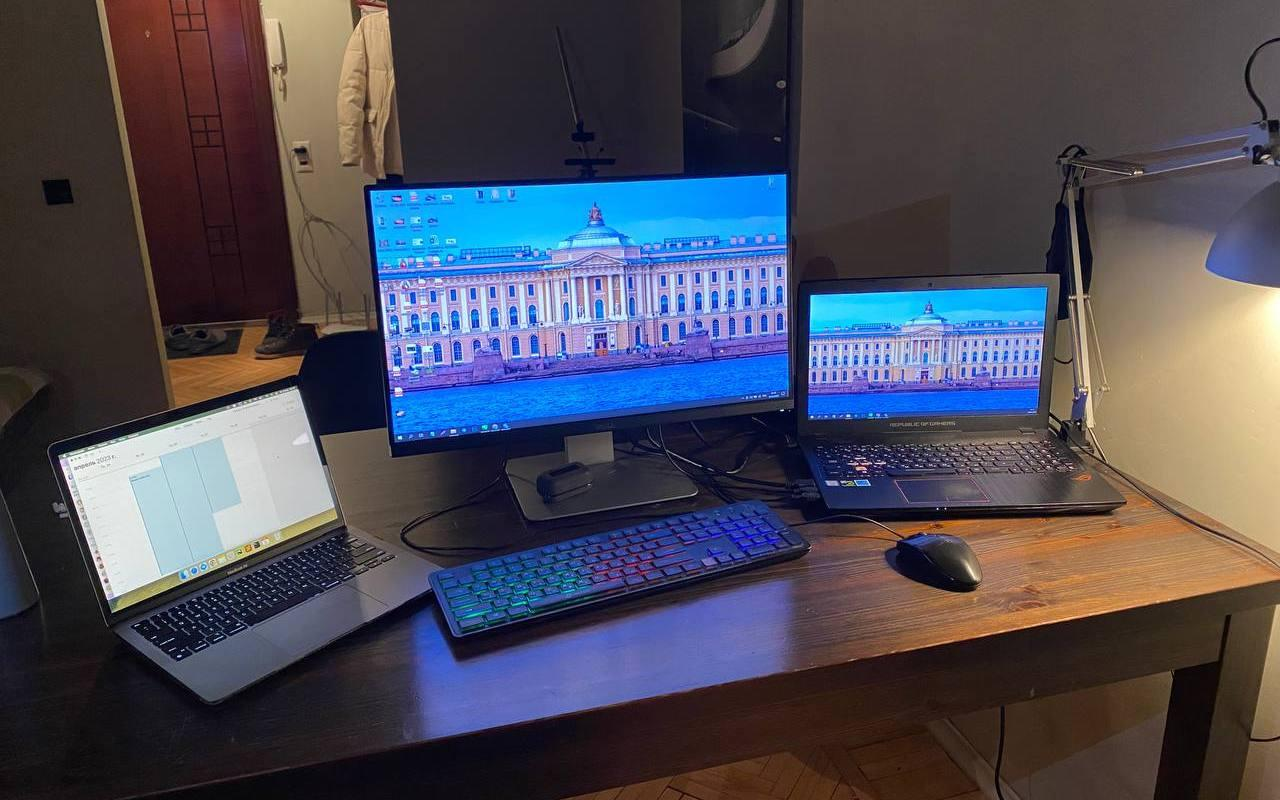monitor: (359, 168, 804, 465), (40, 372, 348, 640), (789, 265, 1073, 453)
